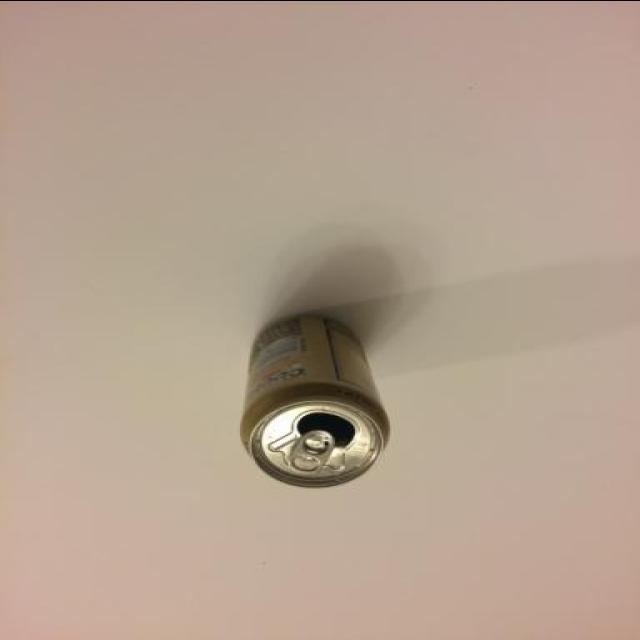litter: (214, 290, 414, 498)
